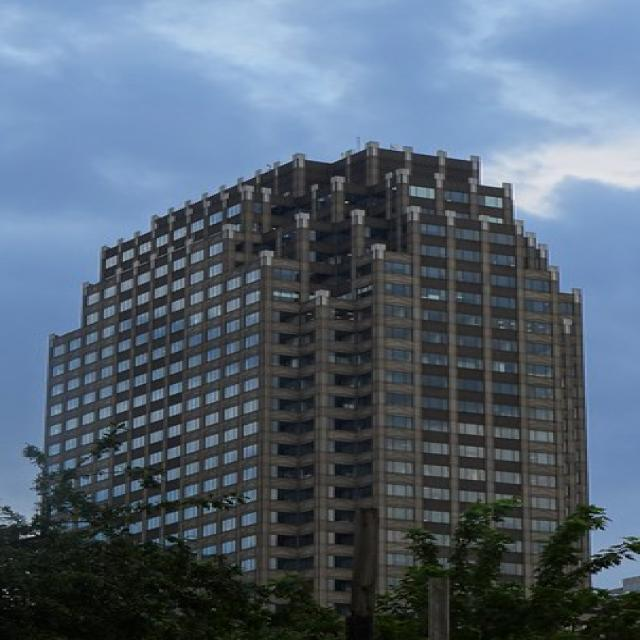building: (40, 140, 617, 636)
